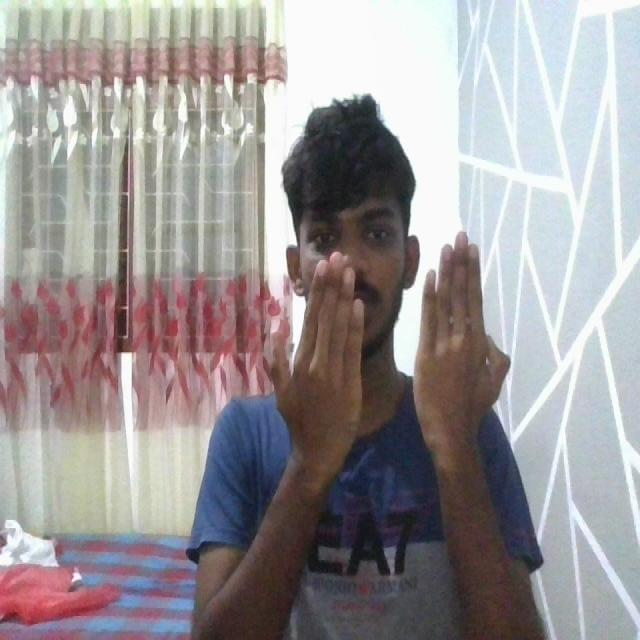ThankYou: (239, 235, 556, 640)
